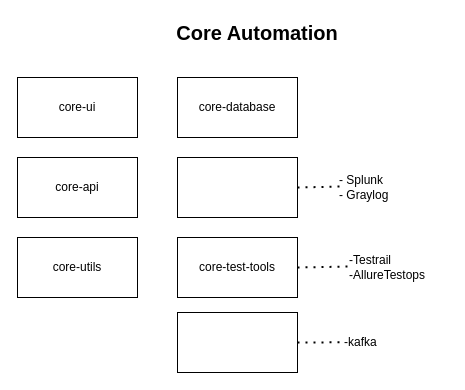
The diagram is 465 pixels wide and 390 high, and some of its shapes have lost their labels. Each missing label, with the box of its shape:
core-logs: (176, 156, 298, 218)
core-publish-susbcrictor: (176, 312, 298, 372)
